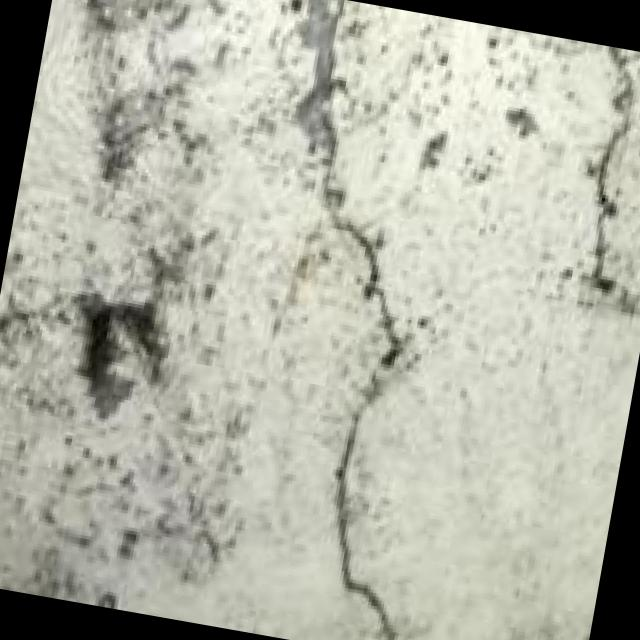crack: (196, 0, 628, 640)
